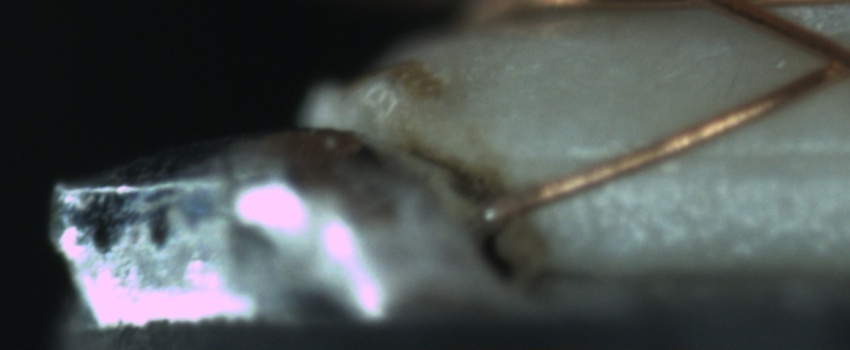CL: (798, 29, 849, 90)
DL: (609, 120, 850, 193)
